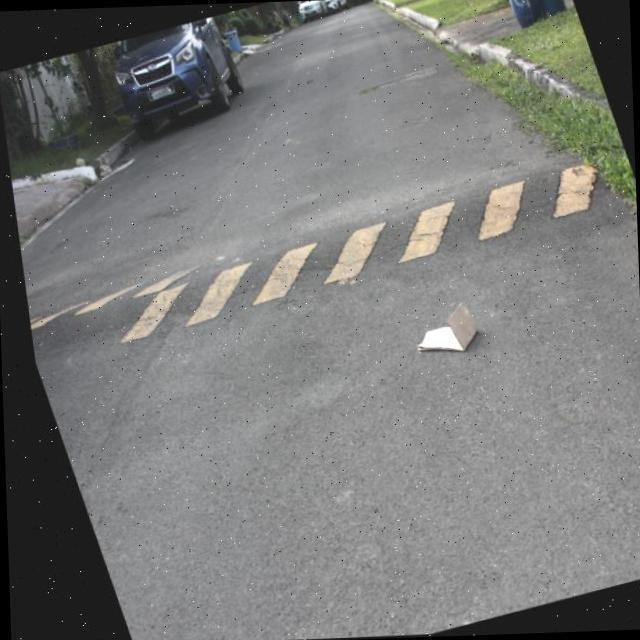Paper_Bag: (397, 300, 478, 363)
